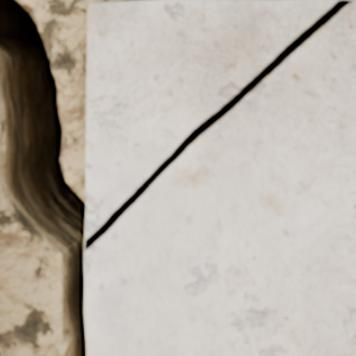brick: (85, 1, 355, 355), (87, 0, 337, 237)
crack: (0, 0, 354, 355)
